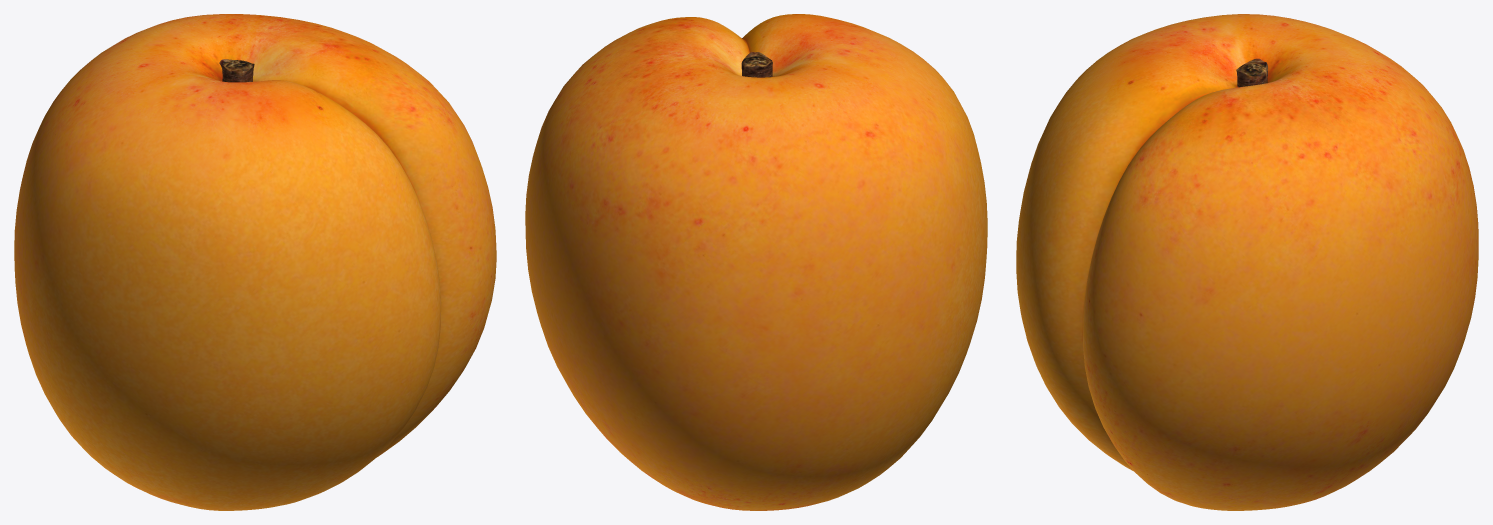
File: peach_whole.fbx
3 renders of one model, left to right at view 1: azimuth 30°, elevation 25°; view 2: azimuth 150°, elevation 25°; view 3: azimuth 270°, elevation 25°, orthographic.
Visible parts, largest first — view 1: peach_whole; view 2: peach_whole; view 3: peach_whole.
Boxes of the visible parts, x1,y1,x2,y2 form: peach_whole: (14, 14, 496, 510); peach_whole: (525, 14, 987, 510); peach_whole: (1016, 14, 1478, 510).
Bounding box in the file's own units: 76.56 × 78.04 × 74.63.
